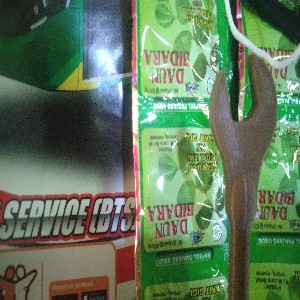spanner: (207, 51, 277, 300)
